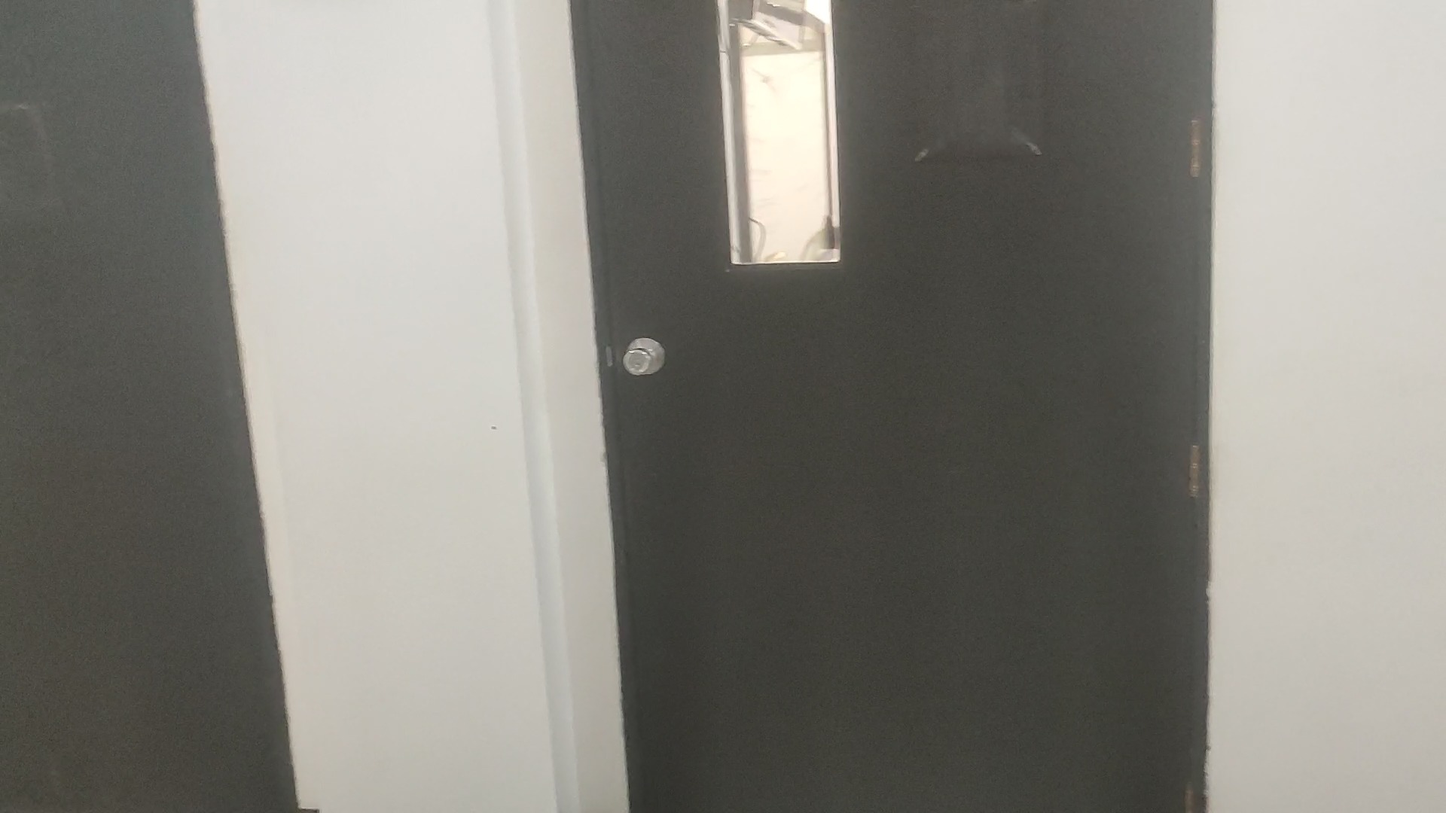door: (554, 0, 1216, 813)
